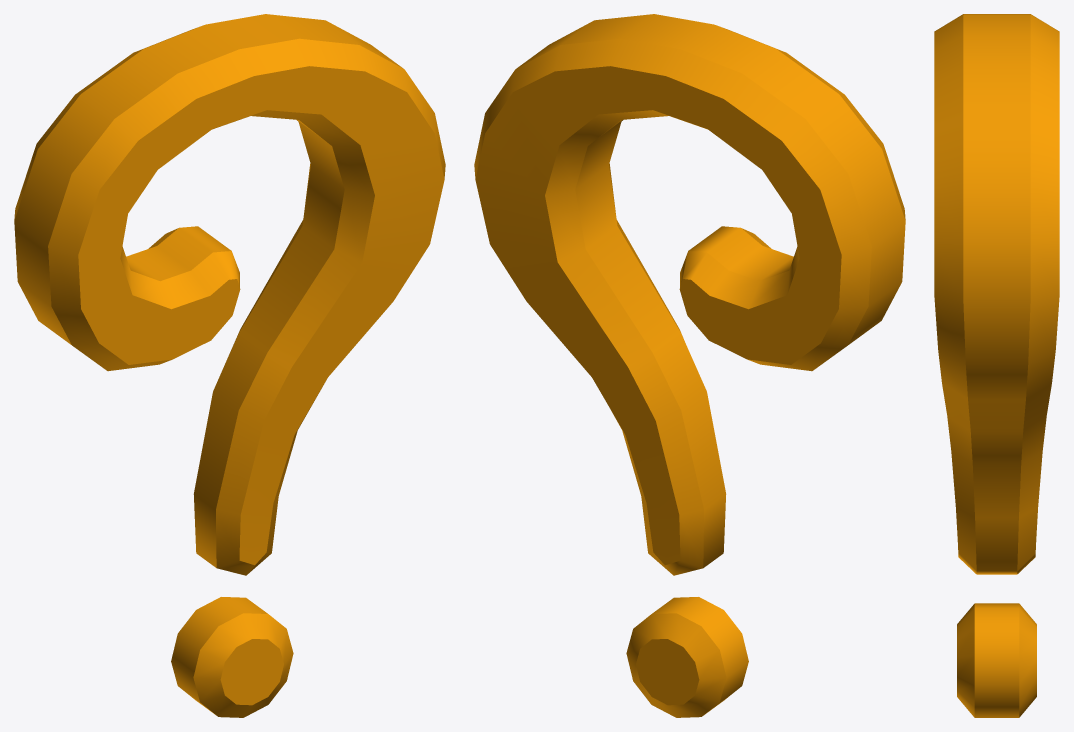
File: Question_TypeA.FBX
The picture shows the model from 3 angles, left to right: view 1: azimuth 30°, elevation 25°; view 2: azimuth 150°, elevation 25°; view 3: azimuth 270°, elevation 25°; orthographic projection.
Visible parts, largest first — view 1: Question_TypeA; view 2: Question_TypeA; view 3: Question_TypeA.
Boxes of the visible parts, x1=… form: Question_TypeA: x1=14, y1=14, x2=445, y2=717; Question_TypeA: x1=474, y1=14, x2=905, y2=717; Question_TypeA: x1=934, y1=14, x2=1059, y2=717.
Bounding box in the file's own units: 16.99 × 27.57 × 4.67.
